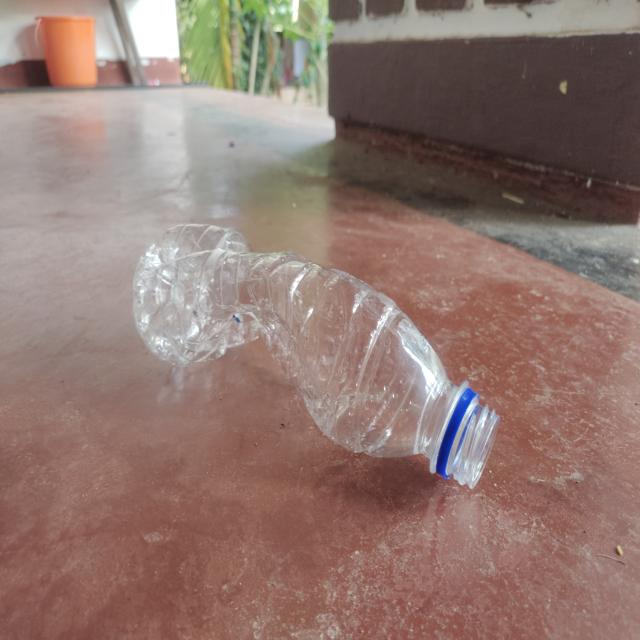plastic: (130, 220, 502, 492)
